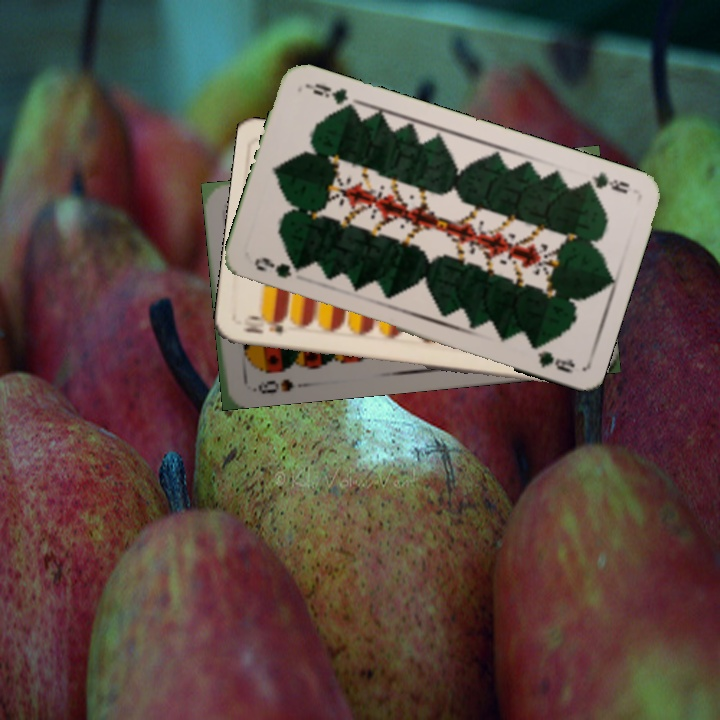E10: (239, 311, 287, 336)
G9: (577, 167, 632, 196), (250, 253, 305, 281)
S8: (248, 375, 295, 396)
